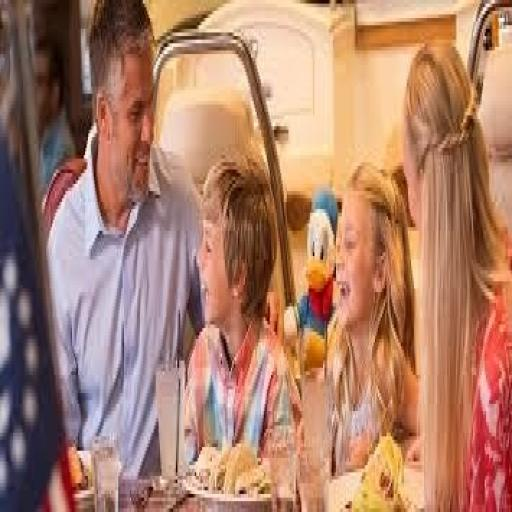eating: (42, 0, 206, 487), (400, 40, 510, 508), (180, 148, 303, 497), (320, 158, 421, 480)
